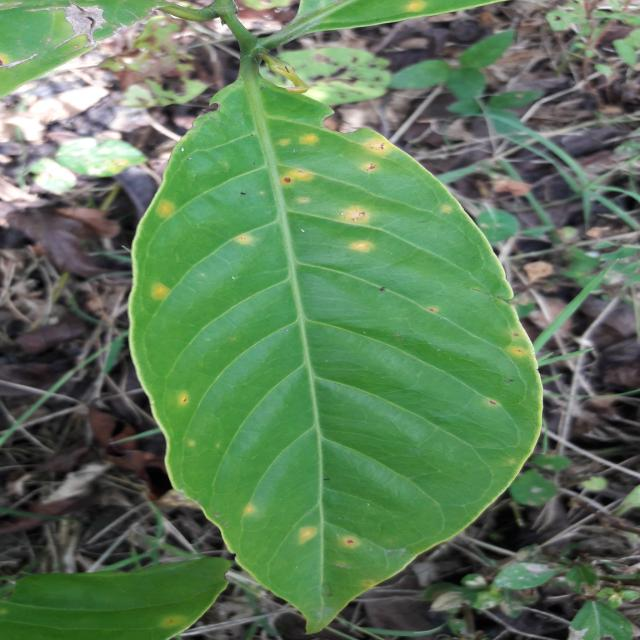Enfermedad-Roya: (132, 59, 543, 634)
